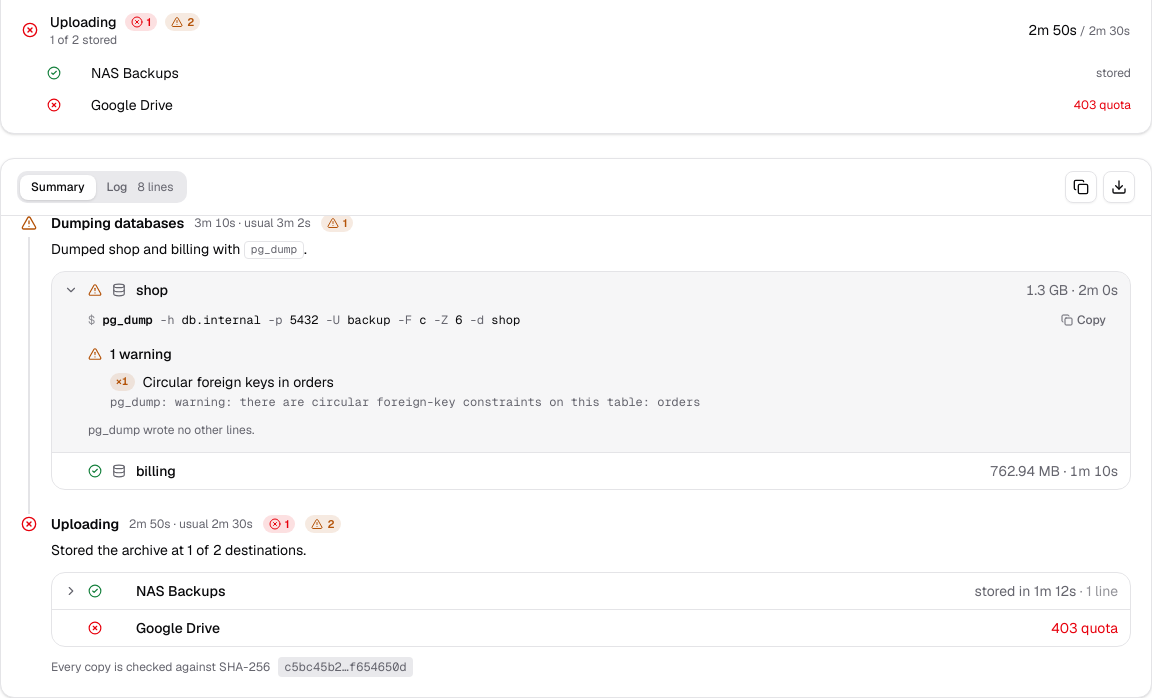
Test: the page of a run › tells each step in a sentence, and one click on a row shows its whole command and its lines
(page scrolled)
Expected: the text "Dumped shop and billing with pg_dump ." is shown, [51,240,307,258]
Expected: the text "db.internal" reads "$ pg_dump -h db.internal -p 5432 -U backup -F c -Z 6 -d shop", [88,312,520,328]
Click the button "NAS Backups stored in 1m 12s · 1 line": (181, 591) [52,573,1130,609]
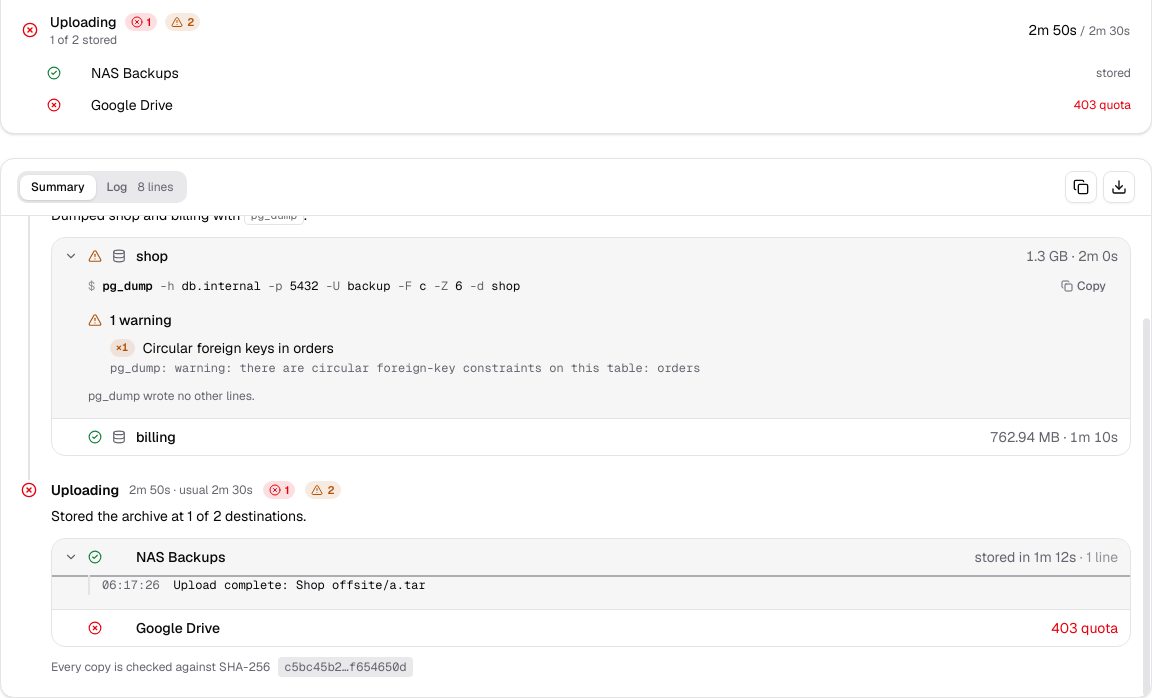
Expected: the text "c5bc45b2…f654650d" is shown, [278,657,413,677]
Result: the text "Upload complete: Shop offsite/a.tar" is shown at [174,575,426,595]
